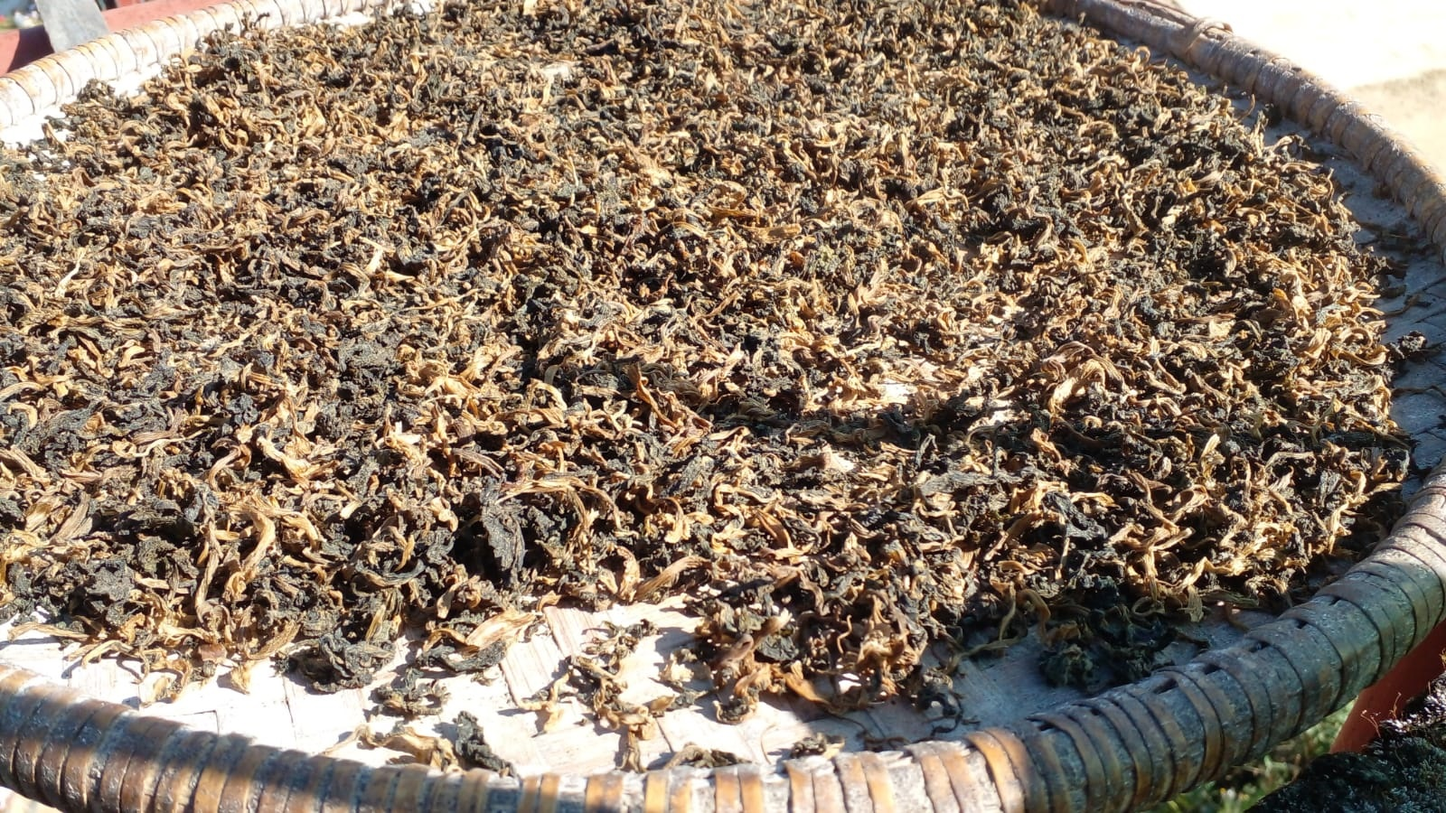gundruk: (16, 47, 1347, 661)
